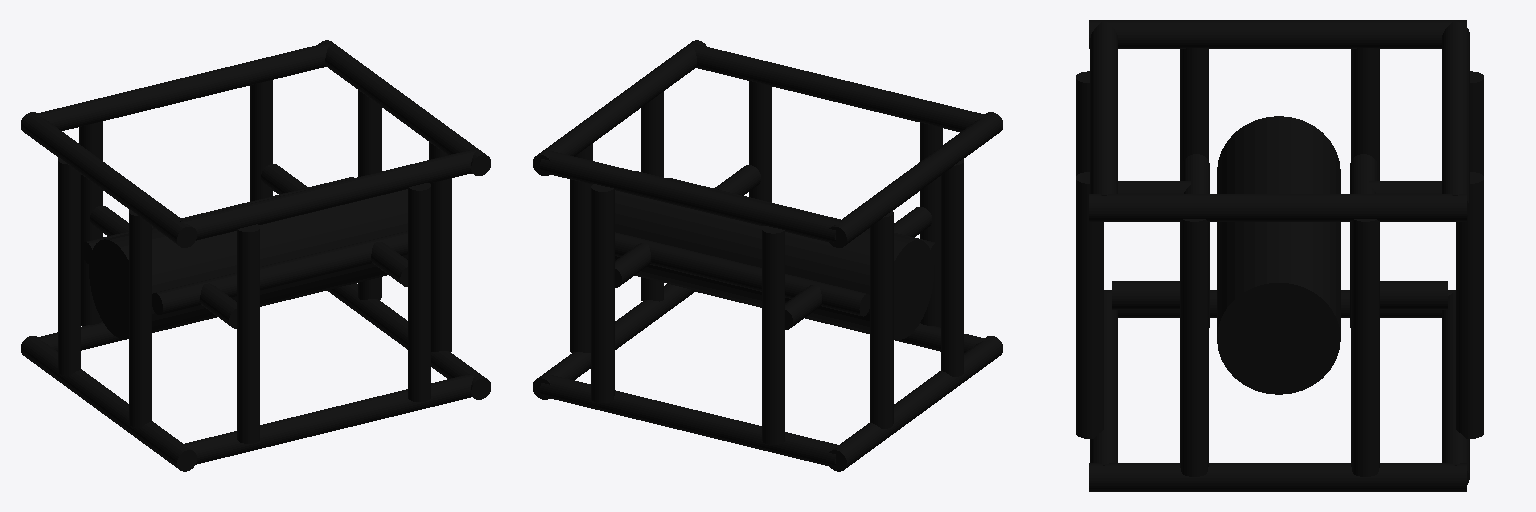
--- What the picture shows (computed from the rendered views, not written in the file) ---
Views: 3 orthographic renders of the robot side by side, from view 1: azimuth 30°, elevation 25°; view 2: azimuth 150°, elevation 25°; view 3: azimuth 270°, elevation 25°.
Robot: prototype — 9 links, 8 joints (8 continuous); root link base_link; default pose: every joint at zero.
Visible links, largest first — view 1: base_link; view 2: base_link; view 3: base_link.
Link boxes in pixels (bbox=[...]): base_link: bbox=[21, 40, 490, 471]; base_link: bbox=[533, 40, 1002, 471]; base_link: bbox=[1076, 20, 1483, 491].
Size in the robot's own frame: 0.3964 by 0.363 by 0.2897 metres.
0 mesh visuals loaded from 3 distinct referenced files (none loaded); not drawn: 9 (reference not matched to a file when rendering).

robot.urdf — prototype:
<?xml version="1.0" ?>
<!-- =================================================================================== -->
<!-- |    This document was autogenerated by xacro from prototype.urdf.xacro           | -->
<!-- |    EDITING THIS FILE BY HAND IS NOT RECOMMENDED                                 | -->
<!-- =================================================================================== -->
<robot name="prototype">
  <gazebo>
    <plugin filename="gz-sim-hydrodynamics-system" name="gz::sim::systems::Hydrodynamics">
      <link_name>base_link</link_name>
      <water_density>1000.0</water_density>
      <xDotU>0</xDotU>
      <yDotV>0</yDotV>
      <zDotW>0</zDotW>
      <kDotP>0</kDotP>
      <mDotQ>0</mDotQ>
      <nDotR>0</nDotR>
      <xU>0</xU>
      <yV>0</yV>
      <zW>0</zW>
      <kP>0</kP>
      <mQ>0</mQ>
      <nR>0</nR>
      <xUabsU>-58.42</xUabsU>
      <yVabsV>-55.137</yVabsV>
      <zWabsW>-124.818</zWabsW>
      <kPabsP>-4.0</kPabsP>
      <mQabsQ>-4.0</mQabsQ>
      <nRabsR>-4.0</nRabsR>
    </plugin>
    <plugin filename="libArduPilotPlugin.so" name="ArduPilotPlugin">
      <fdm_addr>127.0.0.1</fdm_addr>
      <fdm_port_in>9002</fdm_port_in>
      <connectionTimeoutMaxCount>5</connectionTimeoutMaxCount>
      <lock_step>1</lock_step>
      <modelXYZToAirplaneXForwardZDown>0 0 0 3.142 0 0</modelXYZToAirplaneXForwardZDown>
      <gazeboXYZToNED>0 0 0 3.142 0 1.571</gazeboXYZToNED>
      <imuName>imu_sensor</imuName>
      <control channel="0">
        <jointName>thruster1_joint</jointName>
        <servo_min>1000</servo_min>
        <servo_max>2000</servo_max>
        <type>COMMAND</type>
        <cmd_topic>/model/prototype/joint/thruster1_joint/cmd_thrust</cmd_topic>
        <offset>-0.5</offset>
        <multiplier>100</multiplier>
      </control>
      <control channel="1">
        <jointName>thruster2_joint</jointName>
        <servo_min>1100</servo_min>
        <servo_max>1900</servo_max>
        <type>COMMAND</type>
        <cmd_topic>/model/prototype/joint/thruster2_joint/cmd_thrust</cmd_topic>
        <offset>-0.5</offset>
        <multiplier>100</multiplier>
      </control>
      <control channel="2">
        <jointName>thruster3_joint</jointName>
        <servo_min>1100</servo_min>
        <servo_max>1900</servo_max>
        <type>COMMAND</type>
        <cmd_topic>/model/prototype/joint/thruster3_joint/cmd_thrust</cmd_topic>
        <offset>-0.5</offset>
        <multiplier>100</multiplier>
      </control>
      <control channel="3">
        <jointName>thruster4_joint</jointName>
        <servo_min>1100</servo_min>
        <servo_max>1900</servo_max>
        <type>COMMAND</type>
        <cmd_topic>/model/prototype/joint/thruster4_joint/cmd_thrust</cmd_topic>
        <offset>-0.5</offset>
        <multiplier>100</multiplier>
      </control>
      <control channel="4">
        <jointName>thruster5_joint</jointName>
        <servo_min>1100</servo_min>
        <servo_max>1900</servo_max>
        <type>COMMAND</type>
        <cmd_topic>/model/prototype/joint/thruster5_joint/cmd_thrust</cmd_topic>
        <offset>-0.5</offset>
        <multiplier>100</multiplier>
      </control>
      <control channel="5">
        <jointName>thruster6_joint</jointName>
        <servo_min>1100</servo_min>
        <servo_max>1900</servo_max>
        <type>COMMAND</type>
        <cmd_topic>/model/prototype/joint/thruster6_joint/cmd_thrust</cmd_topic>
        <offset>-0.5</offset>
        <multiplier>100</multiplier>
      </control>
      <control channel="6">
        <jointName>thruster7_joint</jointName>
        <servo_min>1100</servo_min>
        <servo_max>1900</servo_max>
        <type>COMMAND</type>
        <cmd_topic>/model/prototype/joint/thruster7_joint/cmd_thrust</cmd_topic>
        <offset>-0.5</offset>
        <multiplier>100</multiplier>
      </control>
      <control channel="7">
        <jointName>thruster8_joint</jointName>
        <servo_min>1100</servo_min>
        <servo_max>1900</servo_max>
        <type>COMMAND</type>
        <cmd_topic>/model/prototype/joint/thruster8_joint/cmd_thrust</cmd_topic>
        <offset>-0.5</offset>
        <multiplier>100</multiplier>
      </control>
    </plugin>
  </gazebo>
  <link name="base_link">
    <inertial>
      <origin rpy="0 0 0" xyz="0 0 -0.05"/>
      <mass value="11.0"/>
      <inertia ixx="0.201" ixy="0" ixz="0" iyy="0.223" iyz="0" izz="0.269"/>
    </inertial>
    <visual>
      <geometry>
        <mesh filename="model://prototype_vehicle/meshes/sim.obj"/>
      </geometry>
    </visual>
    <visual name="left_top_pipe_visual">
      <origin rpy="0 1.5707963267948966 0" xyz="0.001 0.156 0.1417"/>
      <geometry>
        <cylinder length="0.365" radius="0.0125"/>
      </geometry>
      <material name="dark_gray">
        <color rgba="0.1 0.1 0.1 1"/>
      </material>
    </visual>
    <collision name="left_top_pipe_collision">
      <origin rpy="0 1.5707963267948966 0" xyz="0.001 0.156 0.1417"/>
      <geometry>
        <cylinder length="0.365" radius="0.0125"/>
      </geometry>
    </collision>
    <visual name="right_top_pipe_visual">
      <origin rpy="0 1.5707963267948966 0" xyz="0.001 -0.156 0.1417"/>
      <geometry>
        <cylinder length="0.365" radius="0.0125"/>
      </geometry>
      <material name="dark_gray">
        <color rgba="0.1 0.1 0.1 1"/>
      </material>
    </visual>
    <collision name="right_top_pipe_collision">
      <origin rpy="0 1.5707963267948966 0" xyz="0.001 -0.156 0.1417"/>
      <geometry>
        <cylinder length="0.365" radius="0.0125"/>
      </geometry>
    </collision>
    <visual name="back_top_pipe_visual">
      <origin rpy="1.5707963267948966 0 0" xyz="-0.182 -0.0017 0.1413"/>
      <geometry>
        <cylinder length="0.3354" radius="0.0125"/>
      </geometry>
      <material name="dark_gray">
        <color rgba="0.1 0.1 0.1 1"/>
      </material>
    </visual>
    <collision name="back_top_pipe_collision">
      <origin rpy="1.5707963267948966 0 0" xyz="-0.182 -0.0017 0.1413"/>
      <geometry>
        <cylinder length="0.3354" radius="0.0125"/>
      </geometry>
    </collision>
    <visual name="front_top_pipe_visual">
      <origin rpy="1.5707963267948966 0 0" xyz="0.182 -0.0017 0.1413"/>
      <geometry>
        <cylinder length="0.3354" radius="0.0125"/>
      </geometry>
      <material name="dark_gray">
        <color rgba="0.1 0.1 0.1 1"/>
      </material>
    </visual>
    <collision name="front_top_pipe_collision">
      <origin rpy="1.5707963267948966 0 0" xyz="0.182 -0.0017 0.1413"/>
      <geometry>
        <cylinder length="0.3354" radius="0.0125"/>
      </geometry>
    </collision>
    <visual name="left_bottom_pipe_visual">
      <origin rpy="0 1.5707963267948966 0" xyz="0.001 0.156 -0.123"/>
      <geometry>
        <cylinder length="0.365" radius="0.0125"/>
      </geometry>
      <material name="dark_gray">
        <color rgba="0.1 0.1 0.1 1"/>
      </material>
    </visual>
    <collision name="left_bottom_pipe_collision">
      <origin rpy="0 1.5707963267948966 0" xyz="0.001 0.156 -0.123"/>
      <geometry>
        <cylinder length="0.365" radius="0.0125"/>
      </geometry>
    </collision>
    <visual name="right_bottom_pipe_visual">
      <origin rpy="0 1.5707963267948966 0" xyz="0.001 -0.156 -0.123"/>
      <geometry>
        <cylinder length="0.365" radius="0.0125"/>
      </geometry>
      <material name="dark_gray">
        <color rgba="0.1 0.1 0.1 1"/>
      </material>
    </visual>
    <collision name="right_bottom_pipe_collision">
      <origin rpy="0 1.5707963267948966 0" xyz="0.001 -0.156 -0.123"/>
      <geometry>
        <cylinder length="0.365" radius="0.0125"/>
      </geometry>
    </collision>
    <visual name="back_bottom_pipe_visual">
      <origin rpy="1.5707963267948966 0 0" xyz="-0.182 -0.0017 -0.123"/>
      <geometry>
        <cylinder length="0.3354" radius="0.0125"/>
      </geometry>
      <material name="dark_gray">
        <color rgba="0.1 0.1 0.1 1"/>
      </material>
    </visual>
    <collision name="back_bottom_pipe_collision">
      <origin rpy="1.5707963267948966 0 0" xyz="-0.182 -0.0017 -0.123"/>
      <geometry>
        <cylinder length="0.3354" radius="0.0125"/>
      </geometry>
    </collision>
    <visual name="front_bottom_pipe_visual">
      <origin rpy="1.5707963267948966 0 0" xyz="0.182 -0.0017 -0.123"/>
      <geometry>
        <cylinder length="0.3354" radius="0.0125"/>
      </geometry>
      <material name="dark_gray">
        <color rgba="0.1 0.1 0.1 1"/>
      </material>
    </visual>
    <collision name="front_bottom_pipe_collision">
      <origin rpy="1.5707963267948966 0 0" xyz="0.182 -0.0017 -0.123"/>
      <geometry>
        <cylinder length="0.3354" radius="0.0125"/>
      </geometry>
    </collision>
    <visual name="front_left_pipe_visual">
      <origin rpy="0 0 0" xyz="0.1857 -0.076 0.01"/>
      <geometry>
        <cylinder length="0.25" radius="0.0125"/>
      </geometry>
      <material name="dark_gray">
        <color rgba="0.1 0.1 0.1 1"/>
      </material>
    </visual>
    <collision name="front_left_pipe_collision">
      <origin rpy="0 0 0" xyz="0.1857 -0.076 0.01"/>
      <geometry>
        <cylinder length="0.25" radius="0.0125"/>
      </geometry>
    </collision>
    <visual name="front_right_pipe_visual">
      <origin rpy="0 0 0" xyz="0.1857 0.076 0.01"/>
      <geometry>
        <cylinder length="0.25" radius="0.0125"/>
      </geometry>
      <material name="dark_gray">
        <color rgba="0.1 0.1 0.1 1"/>
      </material>
    </visual>
    <collision name="front_right_pipe_collision">
      <origin rpy="0 0 0" xyz="0.1857 0.076 0.01"/>
      <geometry>
        <cylinder length="0.25" radius="0.0125"/>
      </geometry>
    </collision>
    <visual name="back_right_pipe_visual">
      <origin rpy="0 0 0" xyz="-0.1857 0.076 0.01"/>
      <geometry>
        <cylinder length="0.25" radius="0.0125"/>
      </geometry>
      <material name="dark_gray">
        <color rgba="0.1 0.1 0.1 1"/>
      </material>
    </visual>
    <collision name="back_right_pipe_collision">
      <origin rpy="0 0 0" xyz="-0.1857 0.076 0.01"/>
      <geometry>
        <cylinder length="0.25" radius="0.0125"/>
      </geometry>
    </collision>
    <visual name="back_left_pipe_visual">
      <origin rpy="0 0 0" xyz="-0.1857 -0.076 0.01"/>
      <geometry>
        <cylinder length="0.25" radius="0.0125"/>
      </geometry>
      <material name="dark_gray">
        <color rgba="0.1 0.1 0.1 1"/>
      </material>
    </visual>
    <collision name="back_left_pipe_collision">
      <origin rpy="0 0 0" xyz="-0.1857 -0.076 0.01"/>
      <geometry>
        <cylinder length="0.25" radius="0.0125"/>
      </geometry>
    </collision>
    <visual name="inner_front_left_pipe_visual">
      <origin rpy="0 0 0" xyz="0.1057 0.169 0.01"/>
      <geometry>
        <cylinder length="0.25" radius="0.0125"/>
      </geometry>
      <material name="dark_gray">
        <color rgba="0.1 0.1 0.1 1"/>
      </material>
    </visual>
    <collision name="inner_front_left_pipe_collision">
      <origin rpy="0 0 0" xyz="0.1057 0.169 0.01"/>
      <geometry>
        <cylinder length="0.25" radius="0.0125"/>
      </geometry>
    </collision>
    <visual name="inner_front_right_pipe_visual">
      <origin rpy="0 0 0" xyz="0.1057 -0.169 0.01"/>
      <geometry>
        <cylinder length="0.25" radius="0.0125"/>
      </geometry>
      <material name="dark_gray">
        <color rgba="0.1 0.1 0.1 1"/>
      </material>
    </visual>
    <collision name="inner_front_right_pipe_collision">
      <origin rpy="0 0 0" xyz="0.1057 -0.169 0.01"/>
      <geometry>
        <cylinder length="0.25" radius="0.0125"/>
      </geometry>
    </collision>
    <visual name="inner_back_left_pipe_visual">
      <origin rpy="0 0 0" xyz="-0.1057 0.169 0.01"/>
      <geometry>
        <cylinder length="0.25" radius="0.0125"/>
      </geometry>
      <material name="dark_gray">
        <color rgba="0.1 0.1 0.1 1"/>
      </material>
    </visual>
    <collision name="inner_back_left_pipe_collision">
      <origin rpy="0 0 0" xyz="-0.1057 0.169 0.01"/>
      <geometry>
        <cylinder length="0.25" radius="0.0125"/>
      </geometry>
    </collision>
    <visual name="inner_back_right_pipe_visual">
      <origin rpy="0 0 0" xyz="-0.1057 -0.169 0.01"/>
      <geometry>
        <cylinder length="0.25" radius="0.0125"/>
      </geometry>
      <material name="dark_gray">
        <color rgba="0.1 0.1 0.1 1"/>
      </material>
    </visual>
    <collision name="inner_back_right_pipe_collision">
      <origin rpy="0 0 0" xyz="-0.1057 -0.169 0.01"/>
      <geometry>
        <cylinder length="0.25" radius="0.0125"/>
      </geometry>
    </collision>
    <visual name="left_mid_back_horizontal_pipe_visual">
      <origin rpy="1.5707963267948966 0 0" xyz="-0.1058 0.114 0.0198"/>
      <geometry>
        <cylinder length="0.0702" radius="0.0125"/>
      </geometry>
      <material name="dark_gray">
        <color rgba="0.1 0.1 0.1 1"/>
      </material>
    </visual>
    <collision name="left_mid_back_horizontal_pipe_collision">
      <origin rpy="1.5707963267948966 0 0" xyz="-0.1058 0.114 0.0198"/>
      <geometry>
        <cylinder length="0.0702" radius="0.0125"/>
      </geometry>
    </collision>
    <visual name="left_mid_front_horizontal_pipe_visual">
      <origin rpy="1.5707963267948966 0 0" xyz="0.1058 0.114 0.0198"/>
      <geometry>
        <cylinder length="0.0702" radius="0.0125"/>
      </geometry>
      <material name="dark_gray">
        <color rgba="0.1 0.1 0.1 1"/>
      </material>
    </visual>
    <collision name="left_mid_front_horizontal_pipe_collision">
      <origin rpy="1.5707963267948966 0 0" xyz="0.1058 0.114 0.0198"/>
      <geometry>
        <cylinder length="0.0702" radius="0.0125"/>
      </geometry>
    </collision>
    <visual name="right_mid_front_horizontal_pipe_visual">
      <origin rpy="1.5707963267948966 0 0" xyz="0.1058 -0.114 0.0198"/>
      <geometry>
        <cylinder length="0.0702" radius="0.0125"/>
      </geometry>
      <material name="dark_gray">
        <color rgba="0.1 0.1 0.1 1"/>
      </material>
    </visual>
    <collision name="right_mid_front_horizontal_pipe_collision">
      <origin rpy="1.5707963267948966 0 0" xyz="0.1058 -0.114 0.0198"/>
      <geometry>
        <cylinder length="0.0702" radius="0.0125"/>
      </geometry>
    </collision>
    <visual name="right_mid_back_horizontal_pipe_visual">
      <origin rpy="1.5707963267948966 0 0" xyz="-0.1058 -0.114 0.0198"/>
      <geometry>
        <cylinder length="0.0702" radius="0.0125"/>
      </geometry>
      <material name="dark_gray">
        <color rgba="0.1 0.1 0.1 1"/>
      </material>
    </visual>
    <collision name="right_mid_back_horizontal_pipe_collision">
      <origin rpy="1.5707963267948966 0 0" xyz="-0.1058 -0.114 0.0198"/>
      <geometry>
        <cylinder length="0.0702" radius="0.0125"/>
      </geometry>
    </collision>
    <visual name="left_mid_long_pipe_visual">
      <origin rpy="0 1.5707963267948966 0" xyz="0.0007 0.0744 0.02"/>
      <geometry>
        <cylinder length="0.33" radius="0.0125"/>
      </geometry>
      <material name="dark_gray">
        <color rgba="0.1 0.1 0.1 1"/>
      </material>
    </visual>
    <collision name="left_mid_long_pipe_collision">
      <origin rpy="0 1.5707963267948966 0" xyz="0.0007 0.0744 0.02"/>
      <geometry>
        <cylinder length="0.33" radius="0.0125"/>
      </geometry>
    </collision>
    <visual name="right_mid_long_pipe_visual">
      <origin rpy="0 1.5707963267948966 0" xyz="0.0007 -0.0744 0.02"/>
      <geometry>
        <cylinder length="0.33" radius="0.0125"/>
      </geometry>
      <material name="dark_gray">
        <color rgba="0.1 0.1 0.1 1"/>
      </material>
    </visual>
    <collision name="right_mid_long_pipe_collision">
      <origin rpy="0 1.5707963267948966 0" xyz="0.0007 -0.0744 0.02"/>
      <geometry>
        <cylinder length="0.33" radius="0.0125"/>
      </geometry>
    </collision>
    <visual name="enclosure_visual">
      <origin rpy="0 1.5707963267948966 0" xyz="0.0007 -0.001 0.01"/>
      <geometry>
        <cylinder length="0.35" radius="0.055"/>
      </geometry>
      <material name="dark_gray">
        <color rgba="0.1 0.1 0.1 1"/>
      </material>
    </visual>
    <collision name="enclosure_collision">
      <origin rpy="0 1.5707963267948966 0" xyz="0.0007 -0.001 0.01"/>
      <geometry>
        <cylinder length="0.35" radius="0.055"/>
      </geometry>
    </collision>
  </link>
  <gazebo reference="base_link">
    <sensor name="imu_sensor" type="imu">
      <pose>0 0 0 3.141592653589793 0 0</pose>
      <always_on>1</always_on>
      <update_rate>400.0</update_rate>
    </sensor>
  </gazebo>
  <gazebo reference="base_link">
    <sensor name="vio_imu" type="imu">
      <pose>0 0 0 0 0 0</pose>
      <always_on>1</always_on>
      <update_rate>300.0</update_rate>
      <topic>/imu0</topic>
    </sensor>
  </gazebo>
  <link name="thruster1">
    <visual>
      <origin rpy="-1.571 0 0" xyz="0 0 0"/>
      <geometry>
        <mesh filename="model://bluerov2_heavy/meshes/t200_ccw_prop.dae"/>
      </geometry>
    </visual>
    <inertial>
      <mass value="0.002"/>
      <inertia ixx="0.001" ixy="0" ixz="0" iyy="0.001" iyz="0" izz="0.001"/>
    </inertial>
  </link>
  <joint name="thruster1_joint" type="continuous">
    <parent link="base_link"/>
    <child link="thruster1"/>
    <origin rpy="-1.571 1.571 -0.785" xyz="0.2201 -0.1126 -0.0224"/>
    <axis xyz="0 0 -1"/>
  </joint>
  <gazebo>
    <plugin filename="gz-sim-thruster-system" name="gz::sim::systems::Thruster">
      <namespace>prototype</namespace>
      <joint_name>thruster1_joint</joint_name>
      <thrust_coefficient>0.02</thrust_coefficient>
      <fluid_density>1000.0</fluid_density>
      <propeller_diameter>0.1</propeller_diameter>
      <velocity_control>true</velocity_control>
    </plugin>
  </gazebo>
  <link name="thruster2">
    <visual>
      <origin rpy="-1.571 0 0" xyz="0 0 0"/>
      <geometry>
        <mesh filename="model://bluerov2_heavy/meshes/t200_ccw_prop.dae"/>
      </geometry>
    </visual>
    <inertial>
      <mass value="0.002"/>
      <inertia ixx="0.001" ixy="0" ixz="0" iyy="0.001" iyz="0" izz="0.001"/>
    </inertial>
  </link>
  <joint name="thruster2_joint" type="continuous">
    <parent link="base_link"/>
    <child link="thruster2"/>
    <origin rpy="-1.571 1.571 -2.356" xyz="0.2201 0.1126 -0.0224"/>
    <axis xyz="0 0 -1"/>
  </joint>
  <gazebo>
    <plugin filename="gz-sim-thruster-system" name="gz::sim::systems::Thruster">
      <namespace>prototype</namespace>
      <joint_name>thruster2_joint</joint_name>
      <thrust_coefficient>0.02</thrust_coefficient>
      <fluid_density>1000.0</fluid_density>
      <propeller_diameter>0.1</propeller_diameter>
      <velocity_control>true</velocity_control>
    </plugin>
  </gazebo>
  <link name="thruster3">
    <visual>
      <origin rpy="-1.571 0 0" xyz="0 0 0"/>
      <geometry>
        <mesh filename="model://bluerov2_heavy/meshes/t200_cw_prop.dae"/>
      </geometry>
    </visual>
    <inertial>
      <mass value="0.002"/>
      <inertia ixx="0.001" ixy="0" ixz="0" iyy="0.001" iyz="0" izz="0.001"/>
    </inertial>
  </link>
  <joint name="thruster3_joint" type="continuous">
    <parent link="base_link"/>
    <child link="thruster3"/>
    <origin rpy="-1.571 1.571 0.785" xyz="-0.2201 -0.1126 -0.0224"/>
    <axis xyz="0 0 -1"/>
  </joint>
  <gazebo>
    <plugin filename="gz-sim-thruster-system" name="gz::sim::systems::Thruster">
      <namespace>prototype</namespace>
      <joint_name>thruster3_joint</joint_name>
      <thrust_coefficient>-0.02</thrust_coefficient>
      <fluid_density>1000.0</fluid_density>
      <propeller_diameter>0.1</propeller_diameter>
      <velocity_control>true</velocity_control>
    </plugin>
  </gazebo>
  <link name="thruster4">
    <visual>
      <origin rpy="-1.571 0 0" xyz="0 0 0"/>
      <geometry>
        <mesh filename="model://bluerov2_heavy/meshes/t200_cw_prop.dae"/>
      </geometry>
    </visual>
    <inertial>
      <mass value="0.002"/>
      <inertia ixx="0.001" ixy="0" ixz="0" iyy="0.001" iyz="0" izz="0.001"/>
    </inertial>
  </link>
  <joint name="thruster4_joint" type="continuous">
    <parent link="base_link"/>
    <child link="thruster4"/>
    <origin rpy="-1.571 1.571 0.785" xyz="-0.2201 0.1126 -0.0224"/>
    <axis xyz="0 0 -1"/>
  </joint>
  <gazebo>
    <plugin filename="gz-sim-thruster-system" name="gz::sim::systems::Thruster">
      <namespace>prototype</namespace>
      <joint_name>thruster4_joint</joint_name>
      <thrust_coefficient>-0.02</thrust_coefficient>
      <fluid_density>1000.0</fluid_density>
      <propeller_diameter>0.1</propeller_diameter>
      <velocity_control>true</velocity_control>
    </plugin>
  </gazebo>
  <link name="thruster5">
    <visual>
      <origin rpy="-1.571 0 0" xyz="0 0 0"/>
      <geometry>
        <mesh filename="model://bluerov2_heavy/meshes/t200_ccw_prop.dae"/>
      </geometry>
    </visual>
    <inertial>
      <mass value="0.002"/>
      <inertia ixx="0.001" ixy="0" ixz="0" iyy="0.001" iyz="0" izz="0.001"/>
    </inertial>
  </link>
  <joint name="thruster5_joint" type="continuous">
    <parent link="base_link"/>
    <child link="thruster5"/>
    <origin rpy="0 0 0" xyz="0.0884 -0.2126 0.0056"/>
    <axis xyz="0 0 -1"/>
  </joint>
  <gazebo>
    <plugin filename="gz-sim-thruster-system" name="gz::sim::systems::Thruster">
      <namespace>prototype</namespace>
      <joint_name>thruster5_joint</joint_name>
      <thrust_coefficient>0.02</thrust_coefficient>
      <fluid_density>1000.0</fluid_density>
      <propeller_diameter>0.1</propeller_diameter>
      <velocity_control>true</velocity_control>
    </plugin>
  </gazebo>
  <link name="thruster6">
    <visual>
      <origin rpy="-1.571 0 0" xyz="0 0 0"/>
      <geometry>
        <mesh filename="model://bluerov2_heavy/meshes/t200_cw_prop.dae"/>
      </geometry>
    </visual>
    <inertial>
      <mass value="0.002"/>
      <inertia ixx="0.001" ixy="0" ixz="0" iyy="0.001" iyz="0" izz="0.001"/>
    </inertial>
  </link>
  <joint name="thruster6_joint" type="continuous">
    <parent link="base_link"/>
    <child link="thruster6"/>
    <origin rpy="0 0 0" xyz="0.0884 0.2126 0.0056"/>
    <axis xyz="0 0 -1"/>
  </joint>
  <gazebo>
    <plugin filename="gz-sim-thruster-system" name="gz::sim::systems::Thruster">
      <namespace>prototype</namespace>
      <joint_name>thruster6_joint</joint_name>
      <thrust_coefficient>-0.02</thrust_coefficient>
      <fluid_density>1000.0</fluid_density>
      <propeller_diameter>0.1</propeller_diameter>
      <velocity_control>true</velocity_control>
    </plugin>
  </gazebo>
  <link name="thruster7">
    <visual>
      <origin rpy="-1.571 0 0" xyz="0 0 0"/>
      <geometry>
        <mesh filename="model://bluerov2_heavy/meshes/t200_cw_prop.dae"/>
      </geometry>
    </visual>
    <inertial>
      <mass value="0.002"/>
      <inertia ixx="0.001" ixy="0" ixz="0" iyy="0.001" iyz="0" izz="0.001"/>
    </inertial>
  </link>
  <joint name="thruster7_joint" type="continuous">
    <parent link="base_link"/>
    <child link="thruster7"/>
    <origin rpy="0 0 0" xyz="-0.0884 -0.2126 0.0056"/>
    <axis xyz="0 0 -1"/>
  </joint>
  <gazebo>
    <plugin filename="gz-sim-thruster-system" name="gz::sim::systems::Thruster">
      <namespace>prototype</namespace>
      <joint_name>thruster7_joint</joint_name>
      <thrust_coefficient>-0.02</thrust_coefficient>
      <fluid_density>1000.0</fluid_density>
      <propeller_diameter>0.1</propeller_diameter>
      <velocity_control>true</velocity_control>
    </plugin>
  </gazebo>
  <link name="thruster8">
    <visual>
      <origin rpy="-1.571 0 0" xyz="0 0 0"/>
      <geometry>
        <mesh filename="model://bluerov2_heavy/meshes/t200_ccw_prop.dae"/>
      </geometry>
    </visual>
    <inertial>
      <mass value="0.002"/>
      <inertia ixx="0.001" ixy="0" ixz="0" iyy="0.001" iyz="0" izz="0.001"/>
    </inertial>
  </link>
  <joint name="thruster8_joint" type="continuous">
    <parent link="base_link"/>
    <child link="thruster8"/>
    <origin rpy="0 0 0" xyz="-0.0884 0.2126 0.0056"/>
    <axis xyz="0 0 -1"/>
  </joint>
  <gazebo>
    <plugin filename="gz-sim-thruster-system" name="gz::sim::systems::Thruster">
      <namespace>prototype</namespace>
      <joint_name>thruster8_joint</joint_name>
      <thrust_coefficient>0.02</thrust_coefficient>
      <fluid_density>1000.0</fluid_density>
      <propeller_diameter>0.1</propeller_diameter>
      <velocity_control>true</velocity_control>
    </plugin>
  </gazebo>
</robot>
